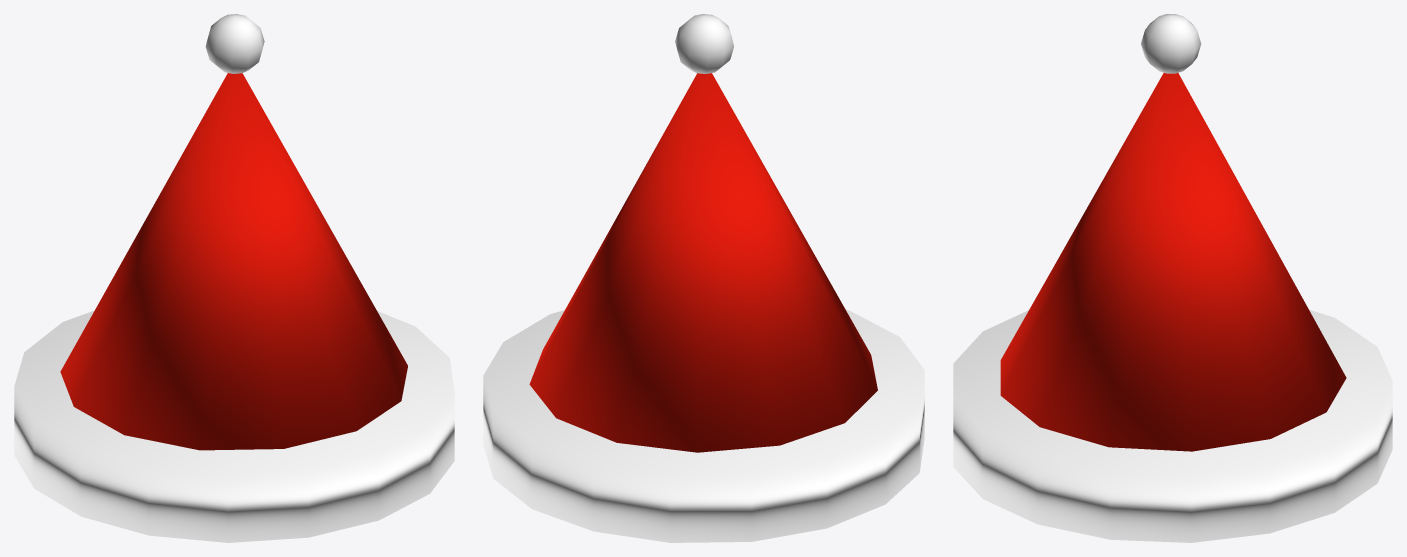
Rendered from santya.fbx.
The picture shows the model from 3 angles, left to right: view 1: azimuth 30°, elevation 25°; view 2: azimuth 150°, elevation 25°; view 3: azimuth 270°, elevation 25°; orthographic projection.
Visible parts, largest first — view 1: Cone, Cylinder, Sphere; view 2: Cone, Cylinder, Sphere; view 3: Cone, Cylinder, Sphere.
Boxes of the visible parts, x1=… form: Cone: x1=60, y1=73, x2=407, y2=450; Cylinder: x1=14, y1=310, x2=454, y2=542; Sphere: x1=205, y1=14, x2=264, y2=73; Cone: x1=529, y1=73, x2=877, y2=452; Cylinder: x1=483, y1=309, x2=924, y2=542; Sphere: x1=675, y1=14, x2=733, y2=73; Cone: x1=1000, y1=73, x2=1346, y2=451; Cylinder: x1=953, y1=309, x2=1392, y2=542; Sphere: x1=1141, y1=14, x2=1201, y2=73.
Size of the model in its own units: 1.99 by 2.16 by 1.98.
